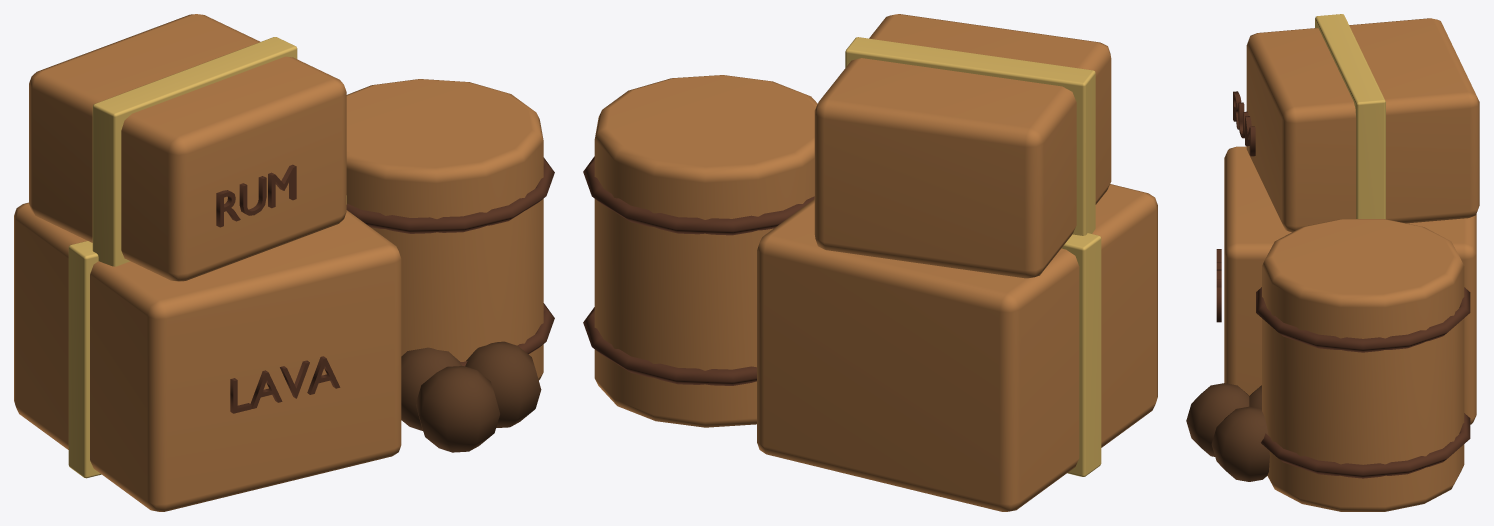
Rendered from lava_crates.glb.
3 views of the same model, side by side, from view 1: azimuth 30°, elevation 25°; view 2: azimuth 150°, elevation 25°; view 3: azimuth 270°, elevation 25° (orthographic). The views are drawn at different scales.
Parts seen in each view (by area): view 1: Crates; view 2: Crates; view 3: Crates.
Boxes of the visible parts, x1,y1,x2,y2 form: Crates: [14, 14, 554, 511]; Crates: [583, 14, 1157, 511]; Crates: [1186, 14, 1479, 511].
Size of the model in its own units: 1.86 by 1.39 by 1.16.
